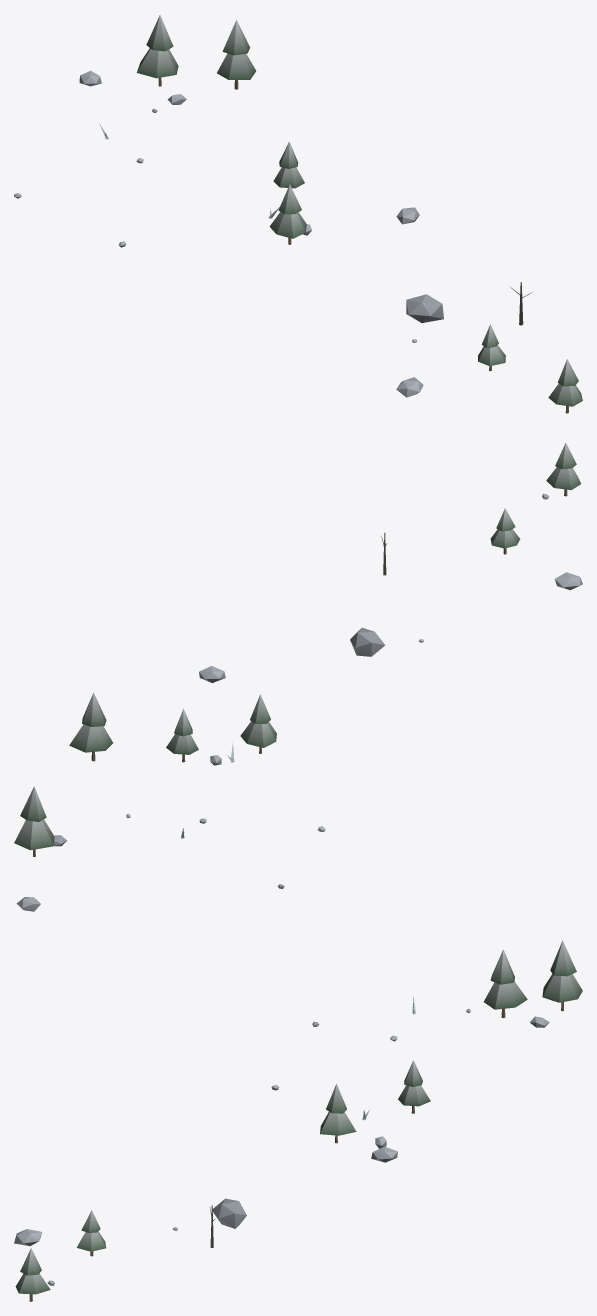
Rendered from frost_land_scatter_c11_12_lod1.glb.
3 renders of one model, top to bottom at view 1: azimuth 30°, elevation 25°; view 2: azimuth 150°, elevation 25°; view 3: azimuth 330°, elevation 25°, orthographic.
Visible parts, largest first — view 1: frost_land_scatter_c11_12_lod1; view 2: frost_land_scatter_c11_12_lod1; view 3: frost_land_scatter_c11_12_lod1.
Boxes of the visible parts, x1=… form: frost_land_scatter_c11_12_lod1: x1=14, y1=15, x2=582, y2=413; frost_land_scatter_c11_12_lod1: x1=14, y1=442, x2=582, y2=911; frost_land_scatter_c11_12_lod1: x1=14, y1=940, x2=582, y2=1301.
Bounding box in the file's own units: 45.08 × 25.17 × 169.
